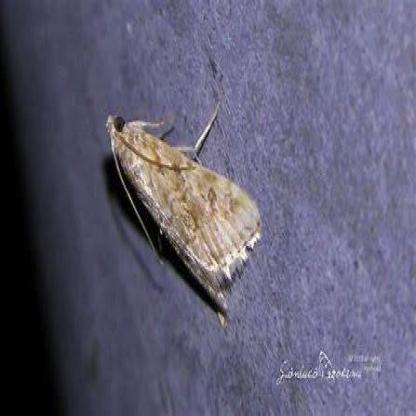Hellula undalis: (101, 95, 280, 334)
